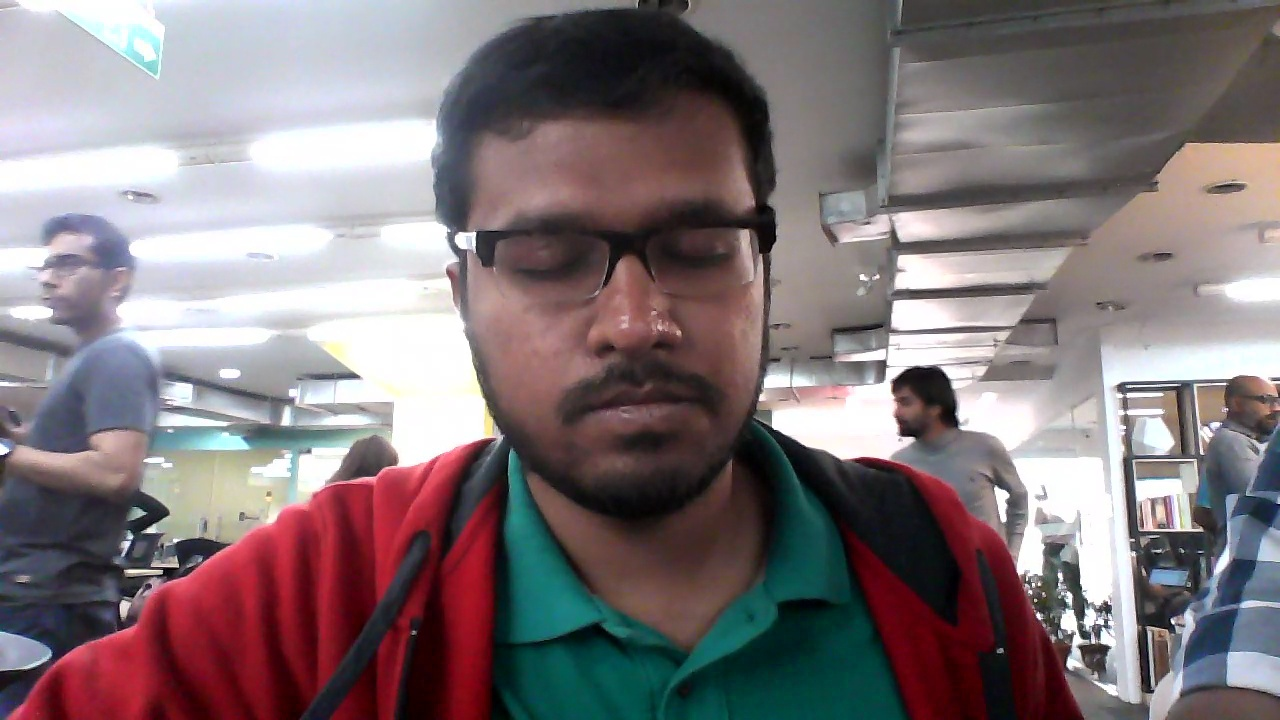closed: (430, 14, 789, 525)
